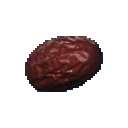gd: (15, 18, 124, 123)
